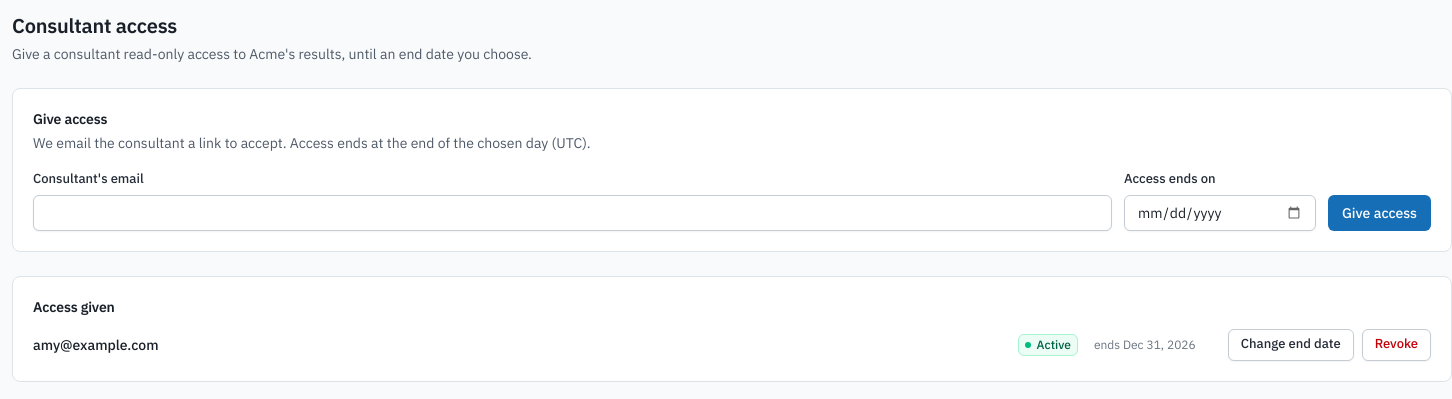
Test: ConsultantsPage › revokes access after an inline confirmation
This screenshot has width=1452, height=399.
Click the button "Revoke" at (1396, 344), box [1362,328,1431,360]
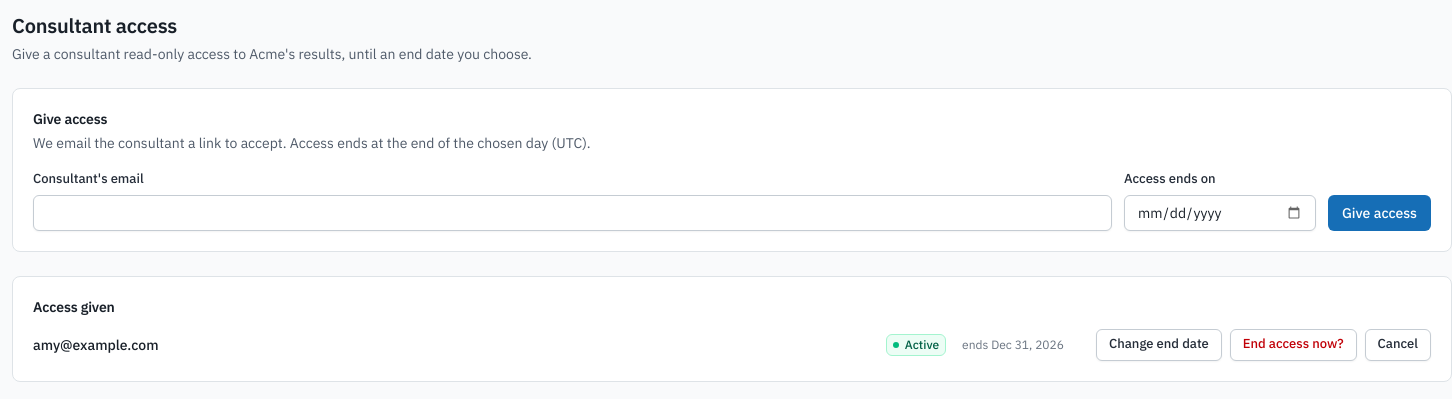
Click the button "End access now?" at (1293, 344), box [1230,328,1357,360]
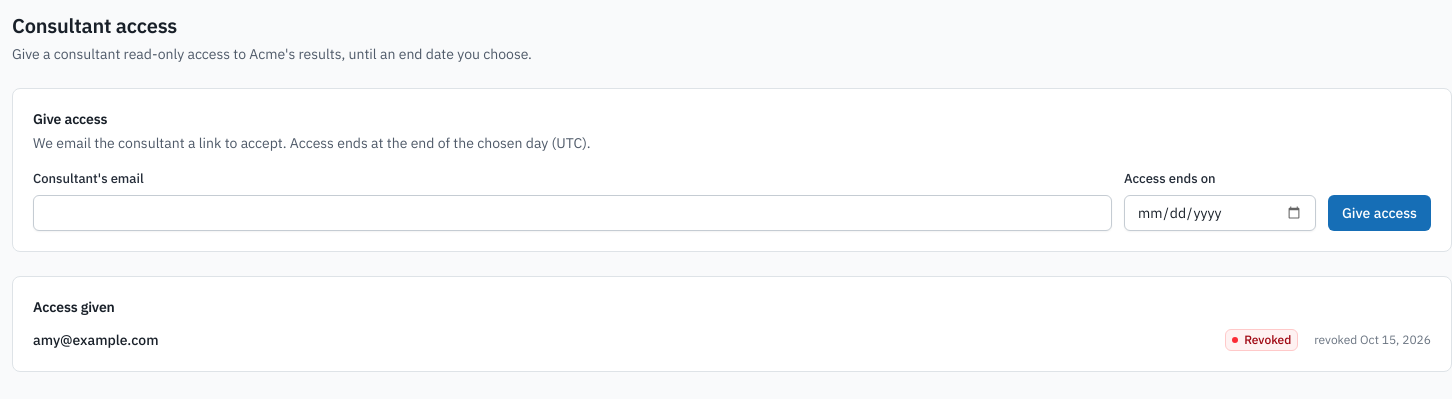
Result: the text "Revoked" is shown at [1225,328,1298,350]
